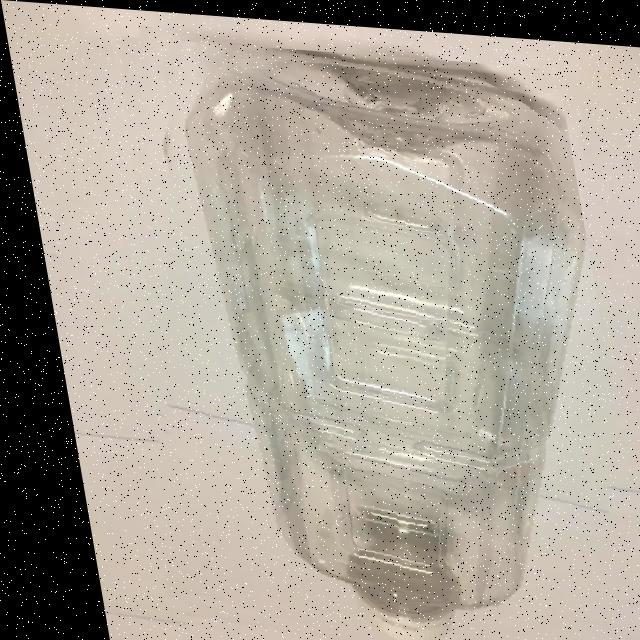plasticbottle: (84, 33, 638, 640)
plasticbottlecap: (348, 592, 494, 640)
